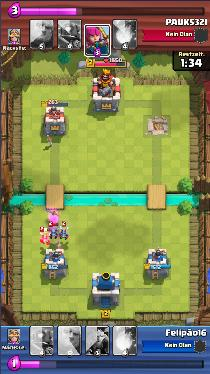enemy_minion: (38, 233, 51, 244), (59, 227, 69, 240), (49, 228, 59, 238)
